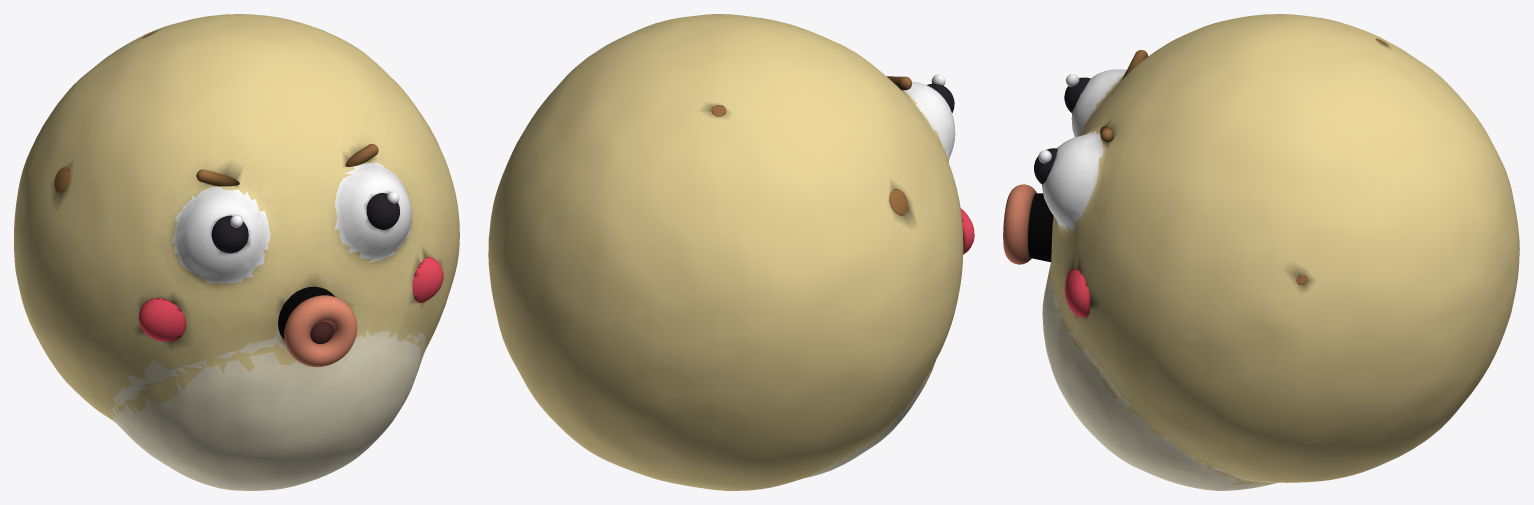
Rendered from hur-dags-borjar-det.glb.
The picture shows the model from 3 angles, left to right: view 1: azimuth 30°, elevation 25°; view 2: azimuth 150°, elevation 25°; view 3: azimuth 270°, elevation 25°; orthographic projection. The views are drawn at different scales.
Visible parts, largest first — view 1: baiacu__r0, baiacu__r16, baiacu__r9, baiacu__r14, baiacu__r6, baiacu__r11, baiacu__r15, baiacu__r8; view 2: baiacu__r0; view 3: baiacu__r0, baiacu__r16, baiacu__r15, baiacu__r14.
Part boxes in pixels (x1=…): baiacu__r0: x1=14, y1=14, x2=459, y2=490; baiacu__r16: x1=284, y1=295, x2=357, y2=367; baiacu__r9: x1=138, y1=298, x2=186, y2=341; baiacu__r14: x1=412, y1=257, x2=443, y2=302; baiacu__r6: x1=211, y1=215, x2=248, y2=253; baiacu__r11: x1=366, y1=193, x2=399, y2=229; baiacu__r15: x1=278, y1=286, x2=334, y2=339; baiacu__r8: x1=196, y1=169, x2=239, y2=186; baiacu__r0: x1=488, y1=14, x2=963, y2=490; baiacu__r0: x1=1042, y1=14, x2=1519, y2=490; baiacu__r16: x1=1003, y1=184, x2=1036, y2=264; baiacu__r15: x1=1028, y1=193, x2=1053, y2=262; baiacu__r14: x1=1065, y1=268, x2=1090, y2=317.
Size of the model in its own units: 1.52 by 1.57 by 1.67.
